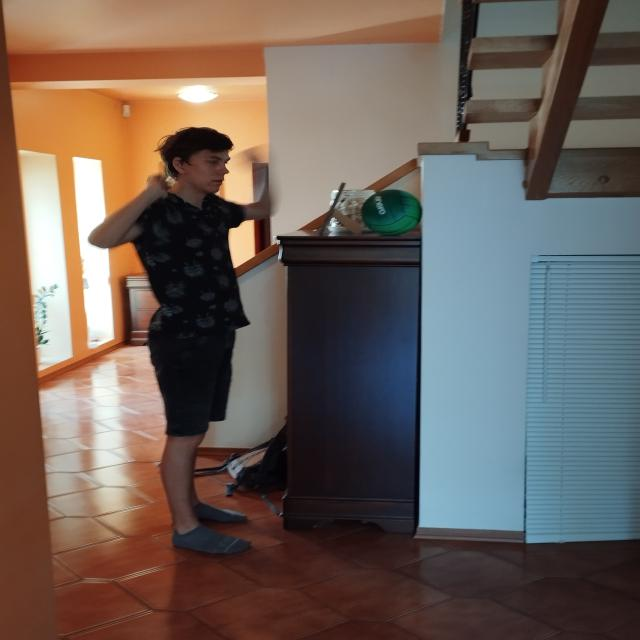zielona: (360, 189, 422, 236)
